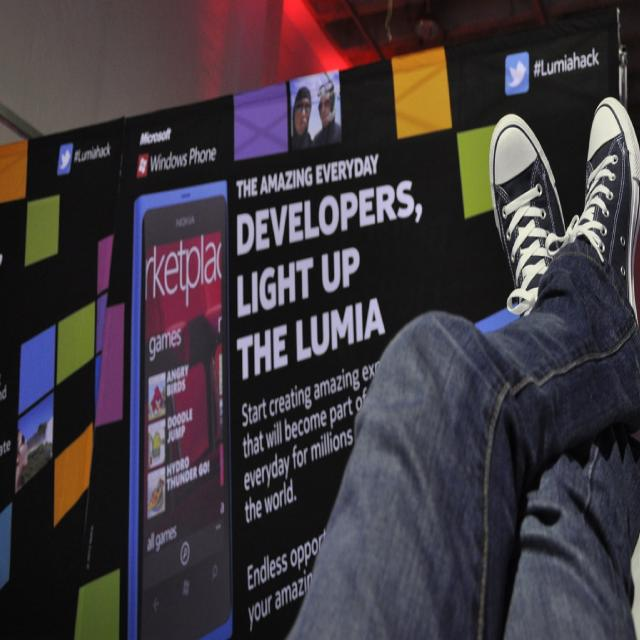Mobile-phone: (118, 132, 228, 626)
